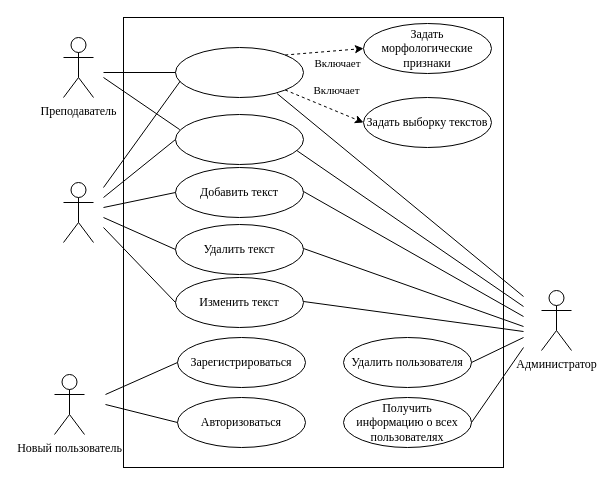
Image size: 614x485. Some labels were removed from this diagram. Each missing label, with the box of its shape:
Переводчик: (62, 182, 94, 242)
Получить примеры употребления слова: (174, 46, 304, 98)
Поменять роль: (174, 114, 304, 164)
